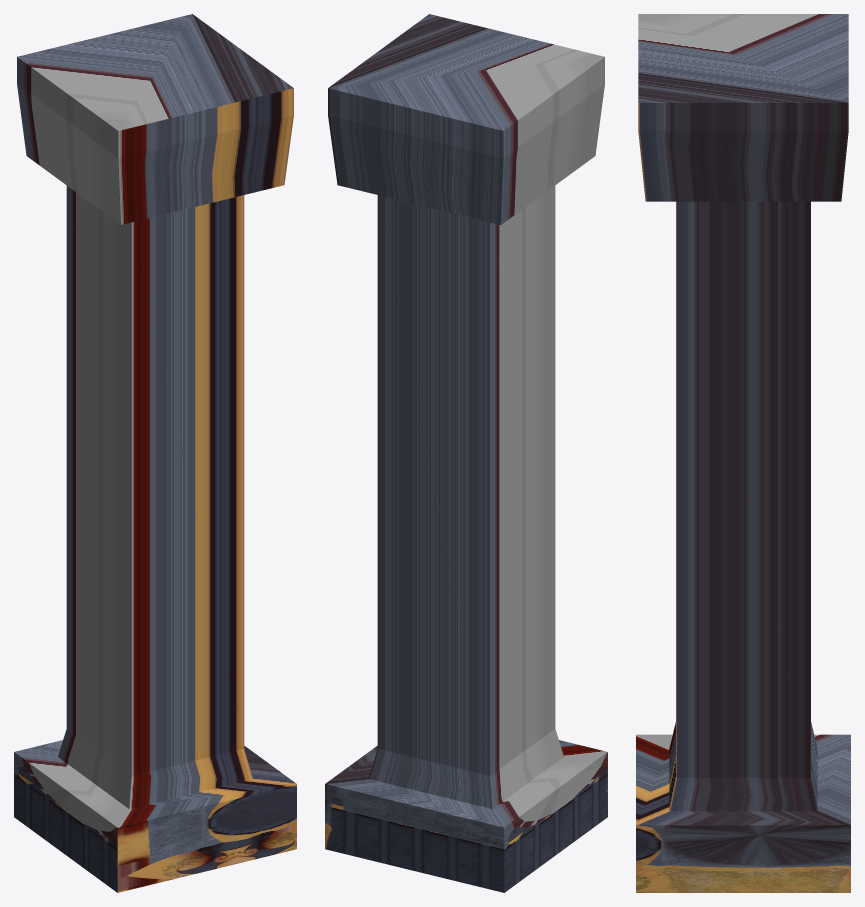
The model's file is sb_obj_DemonsCastle002_Altar02_col.fbx.
The picture shows the model from 3 angles, left to right: view 1: azimuth 30°, elevation 25°; view 2: azimuth 150°, elevation 25°; view 3: azimuth 270°, elevation 25°; orthographic projection. The views are drawn at different scales.
Parts seen in each view (by area): view 1: sb_obj_DemonsCastle002_Altar02_col; view 2: sb_obj_DemonsCastle002_Altar02_col; view 3: sb_obj_DemonsCastle002_Altar02_col.
Part boxes in pixels (bbox=[...]): sb_obj_DemonsCastle002_Altar02_col: bbox=[14, 14, 296, 892]; sb_obj_DemonsCastle002_Altar02_col: bbox=[325, 14, 607, 892]; sb_obj_DemonsCastle002_Altar02_col: bbox=[636, 14, 850, 892].
Bounding box in the file's own units: 0.8 × 3.24 × 0.8.
1 material, 1 textured.
